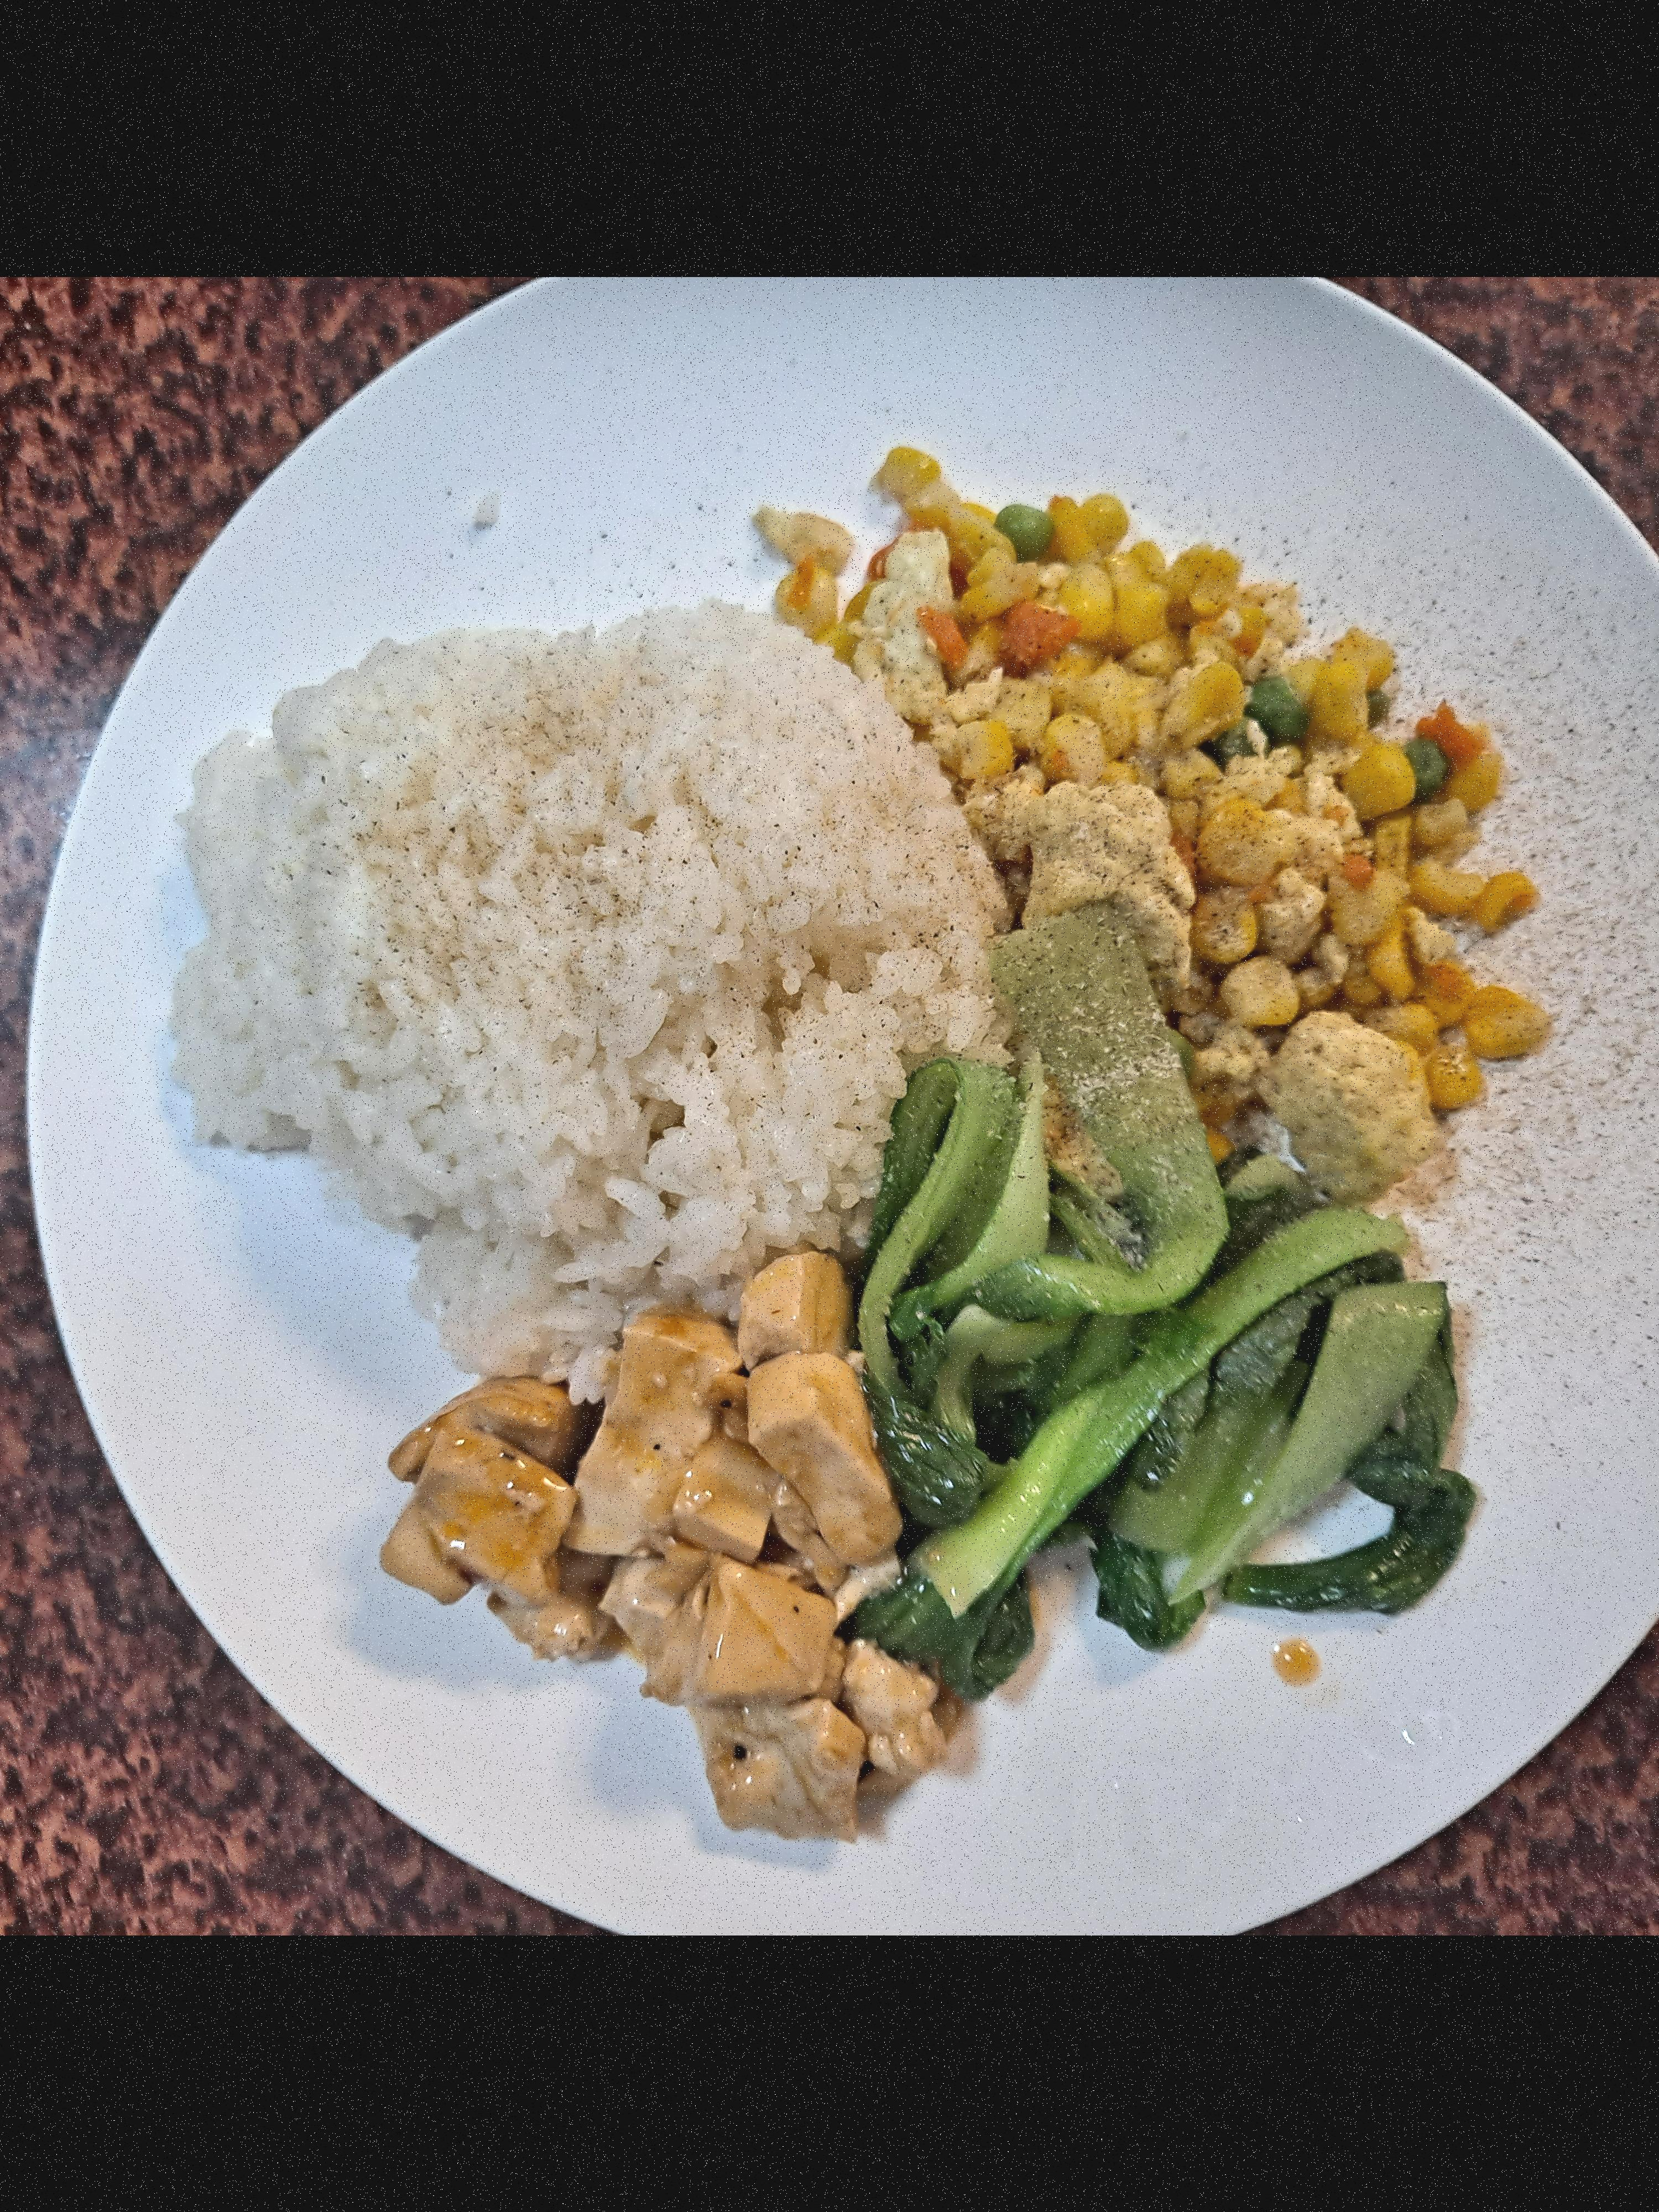plate: (0, 284, 573, 1116)
side dish: (328, 374, 573, 725), (312, 678, 573, 988), (56, 812, 352, 1069)
white rice: (0, 460, 375, 805)
